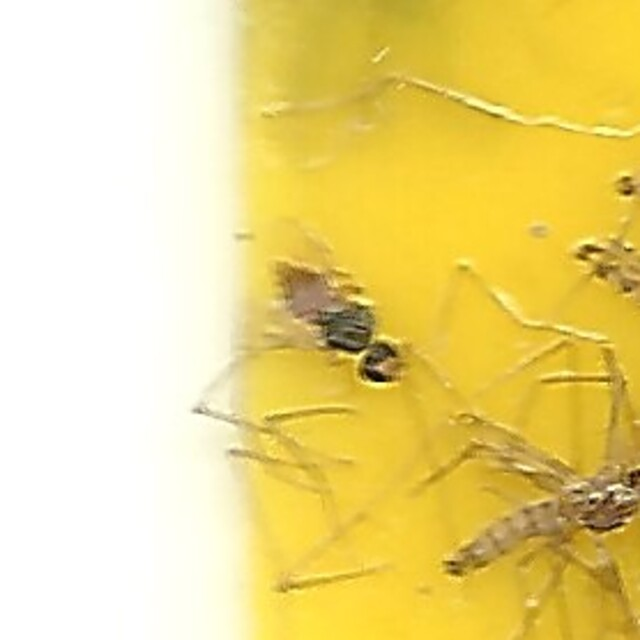Brachycera: (230, 226, 410, 414)
